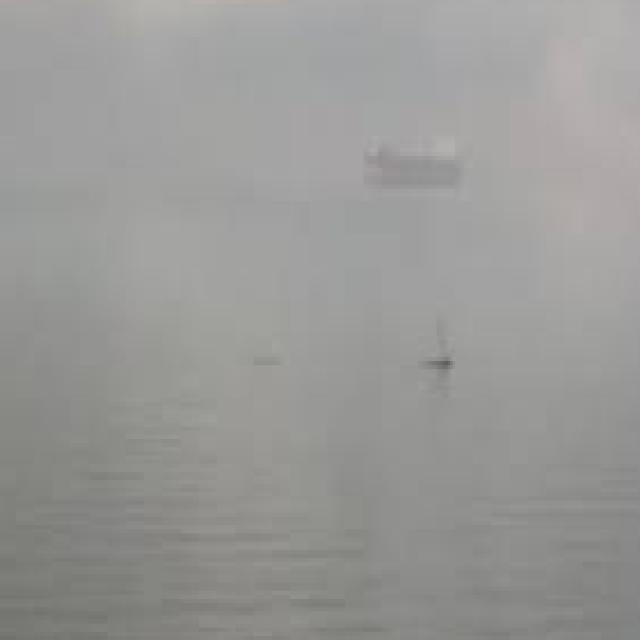cargoship: (360, 130, 470, 185)
